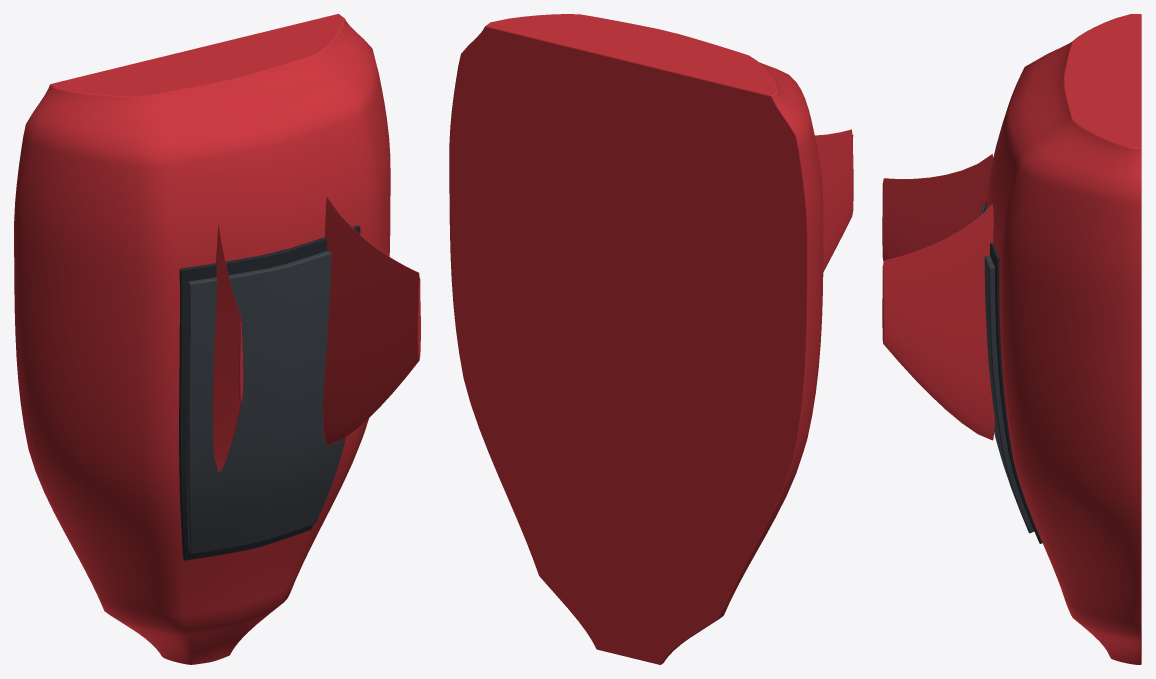
Rendered from ThighBack_Set01_Ironclad.fbx.
3 views of the same model, side by side, from view 1: azimuth 30°, elevation 25°; view 2: azimuth 150°, elevation 25°; view 3: azimuth 270°, elevation 25° (orthographic). The views are drawn at different scales.
Visible parts, largest first — view 1: ThighBack_Set01_Ironclad; view 2: ThighBack_Set01_Ironclad; view 3: ThighBack_Set01_Ironclad.
Boxes of the visible parts, x1,y1,x2,y2 form: ThighBack_Set01_Ironclad: (14, 14, 420, 664); ThighBack_Set01_Ironclad: (449, 14, 853, 664); ThighBack_Set01_Ironclad: (882, 14, 1141, 664).
Bounding box in the file's own units: 0.4599 × 0.73 × 0.3009.
